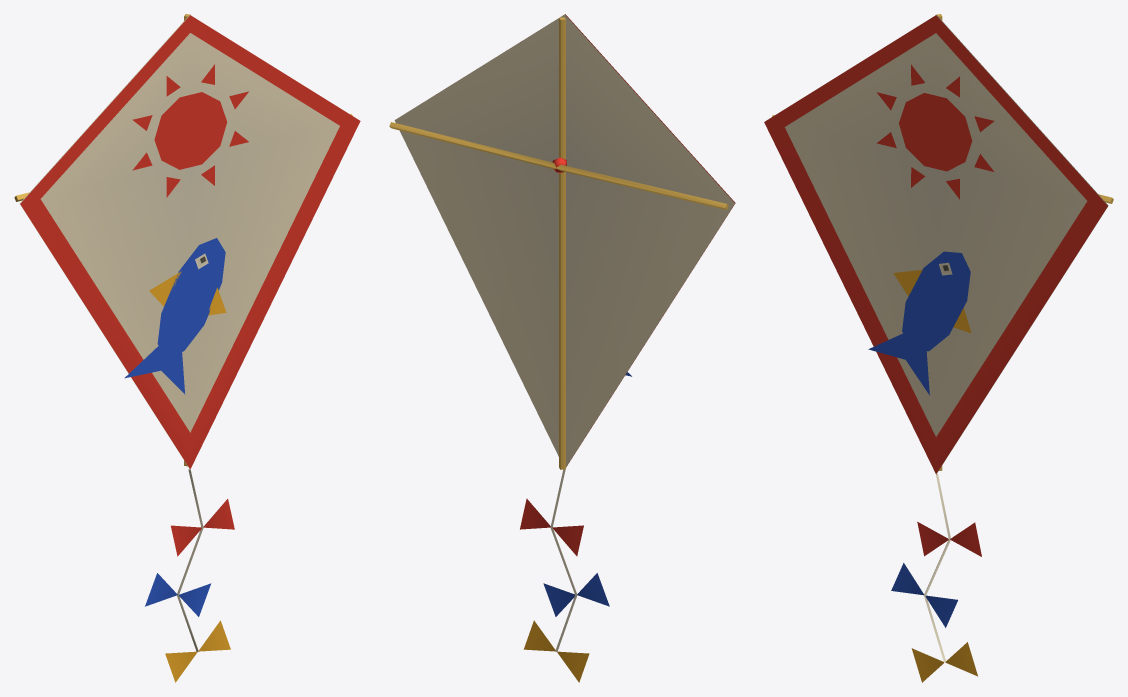
Rendered from kite-paper.glb.
3 renders of one model, left to right at view 1: azimuth 30°, elevation 25°; view 2: azimuth 150°, elevation 25°; view 3: azimuth 330°, elevation 25°, orthographic.
Visible parts, largest first — view 1: kite_paper; view 2: kite_paper; view 3: kite_paper.
Boxes of the visible parts, left/top/right/bottom form: kite_paper: left=14, top=14, right=360, bottom=682; kite_paper: left=389, top=14, right=735, bottom=682; kite_paper: left=764, top=14, right=1113, bottom=682.
Bounding box in the file's own units: 0.58 × 1.08 × 0.0322.
